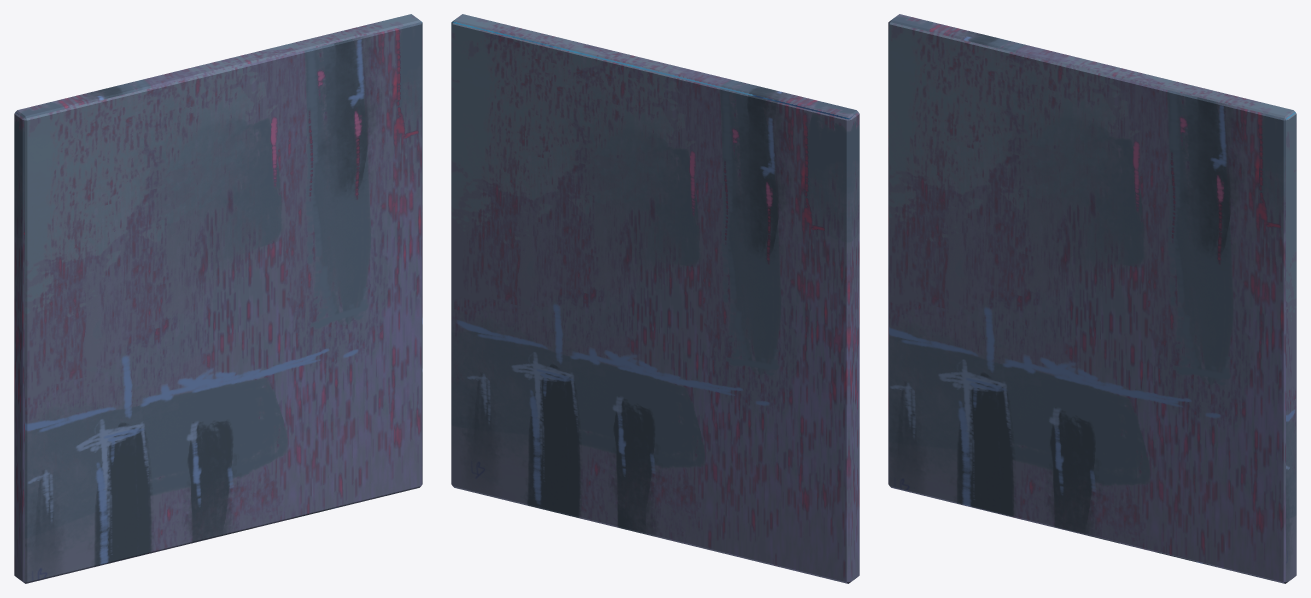
Rendered from Painting_Blocks.fbx.
The picture shows the model from 3 angles, left to right: view 1: azimuth 30°, elevation 25°; view 2: azimuth 150°, elevation 25°; view 3: azimuth 330°, elevation 25°; orthographic projection.
Visible parts, largest first — view 1: Painting_Blocks; view 2: Painting_Blocks; view 3: Painting_Blocks.
Boxes of the visible parts, x1,y1,x2,y2 form: Painting_Blocks: (14,14,422,583); Painting_Blocks: (451,14,859,583); Painting_Blocks: (888,14,1296,583).
Bounding box in the file's own units: 75.76 × 84.64 × 3.82.
